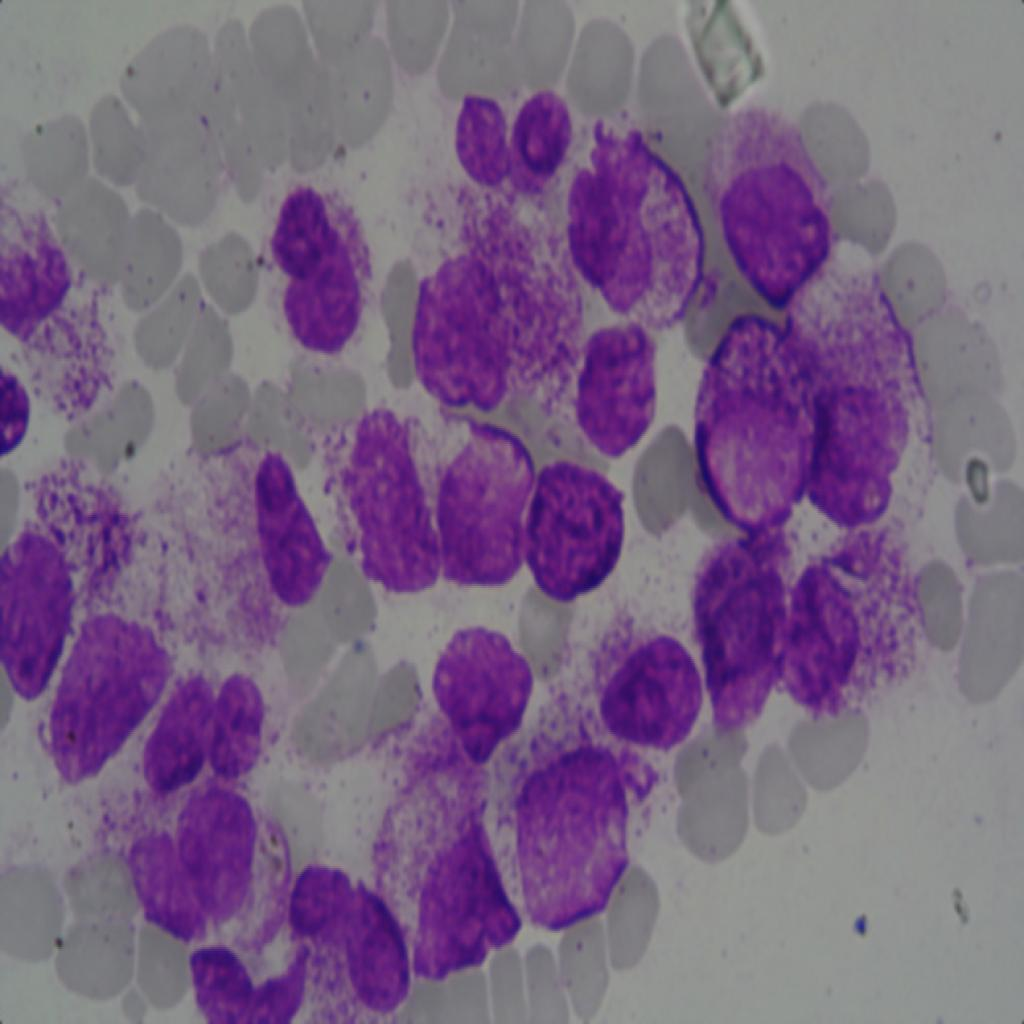Myeoblast: (566, 136, 702, 334), (387, 809, 525, 998), (694, 312, 815, 525), (679, 515, 794, 736), (288, 831, 423, 1016), (514, 738, 639, 927), (410, 239, 532, 428), (263, 174, 383, 363), (341, 391, 444, 594), (52, 610, 170, 785), (516, 450, 636, 621), (420, 412, 538, 578), (119, 813, 263, 943), (802, 386, 918, 542), (717, 146, 830, 306), (780, 553, 889, 718), (431, 604, 536, 771), (229, 440, 333, 604), (592, 616, 699, 760), (564, 318, 663, 458), (0, 531, 78, 708), (141, 665, 217, 795), (498, 73, 568, 207), (440, 79, 513, 193), (204, 673, 274, 787)
Platelet: (840, 892, 890, 961)
